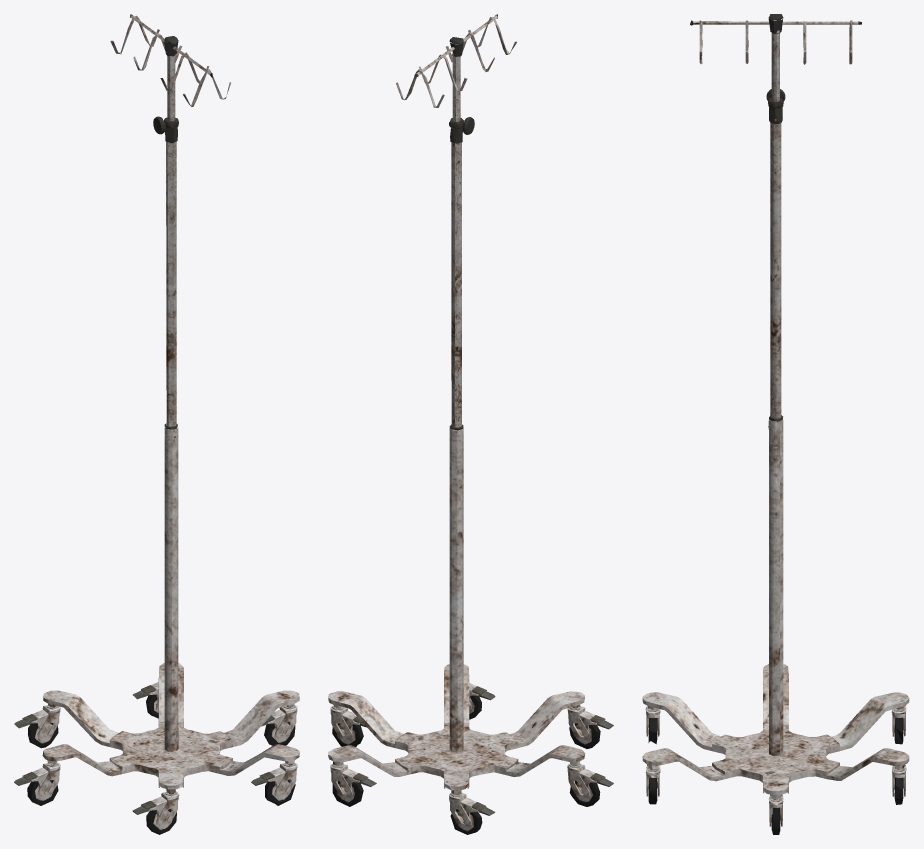
Rendered from item_iv_pole.glb.
3 views of the same model, side by side, from view 1: azimuth 30°, elevation 25°; view 2: azimuth 150°, elevation 25°; view 3: azimuth 270°, elevation 25° (orthographic). The views are drawn at different scales.
Visible parts, largest first — view 1: item_iv_pole; view 2: item_iv_pole; view 3: item_iv_pole.
Boxes of the visible parts, x1=… form: item_iv_pole: x1=14, y1=14, x2=299, y2=834; item_iv_pole: x1=328, y1=14, x2=613, y2=834; item_iv_pole: x1=642, y1=14, x2=909, y2=834.
Size of the model in its own units: 0.7214 by 1.8 by 0.5703.
Materials: 5 (5 with a texture image).
